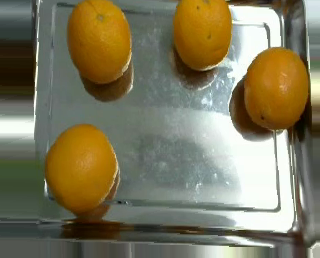Orange: (45, 124, 118, 213), (241, 45, 310, 130), (65, 1, 132, 84), (171, 1, 232, 70)
